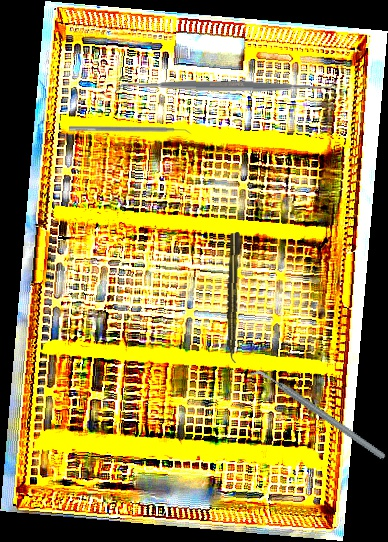Chopper: (247, 333, 387, 496)
Handpiece: (224, 231, 242, 364)
Spatula Surgical: (114, 72, 335, 101), (69, 126, 192, 136)
